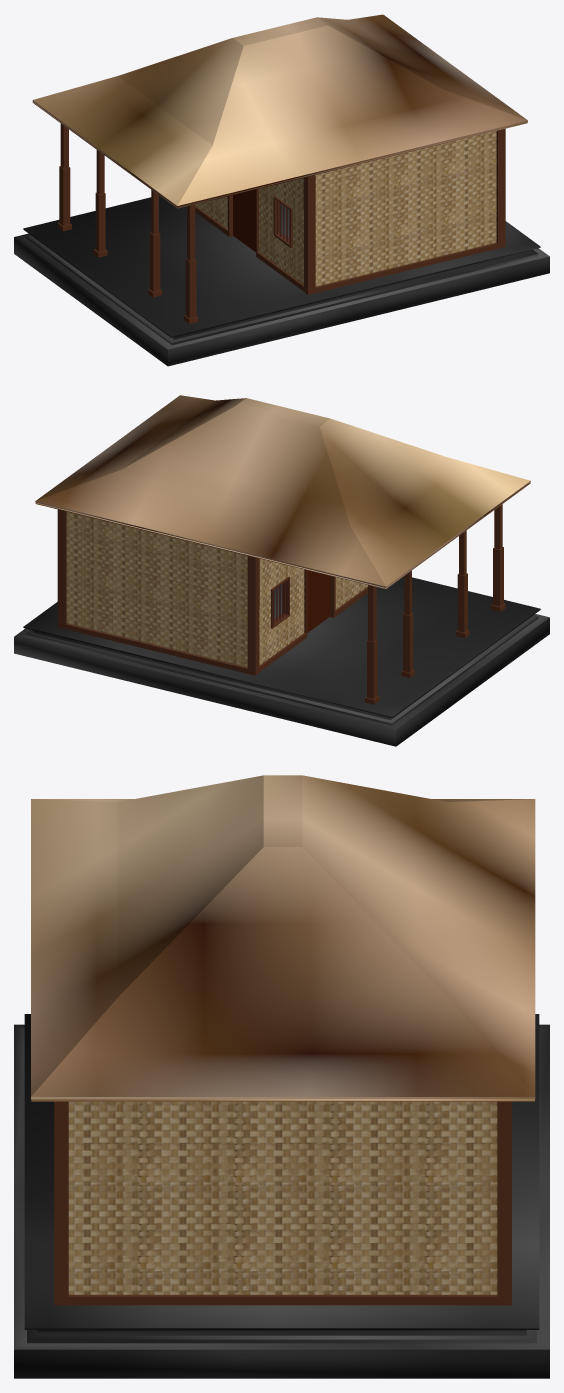
The model's file is Bangunan Bale Delod.fbx.
3 renders of one model, top to bottom at view 1: azimuth 30°, elevation 25°; view 2: azimuth 150°, elevation 25°; view 3: azimuth 270°, elevation 25°, orthographic. The views are drawn at different scales.
Parts seen in each view (by area): view 1: Atap Bale Delod, Pondasi Bale Delod, Dinding Bale Delod, Tiang Bale Delod, Pintu Bale Delod; view 2: Atap Bale Delod, Pondasi Bale Delod, Dinding Bale Delod, Tiang Bale Delod, Pintu Bale Delod; view 3: Atap Bale Delod, Dinding Bale Delod, Pondasi Bale Delod, Tiang Bale Delod.
Boxes of the visible parts, left/top/right/bottom form: Atap Bale Delod: left=32, top=14, right=527, bottom=208; Pondasi Bale Delod: left=14, top=195, right=549, bottom=366; Dinding Bale Delod: left=195, top=131, right=496, bottom=286; Tiang Bale Delod: left=57, top=123, right=505, bottom=323; Pintu Bale Delod: left=233, top=189, right=255, bottom=251; Atap Bale Delod: left=35, top=395, right=530, bottom=589; Pondasi Bale Delod: left=14, top=576, right=549, bottom=746; Dinding Bale Delod: left=66, top=511, right=367, bottom=667; Tiang Bale Delod: left=57, top=504, right=505, bottom=704; Pintu Bale Delod: left=307, top=570, right=330, bottom=632; Atap Bale Delod: left=31, top=775, right=535, bottom=1101; Dinding Bale Delod: left=68, top=1101, right=497, bottom=1294; Pondasi Bale Delod: left=14, top=1014, right=549, bottom=1378; Tiang Bale Delod: left=54, top=1101, right=511, bottom=1305.
Bounding box in the file's own units: 14.57 × 8.46 × 10.17.
